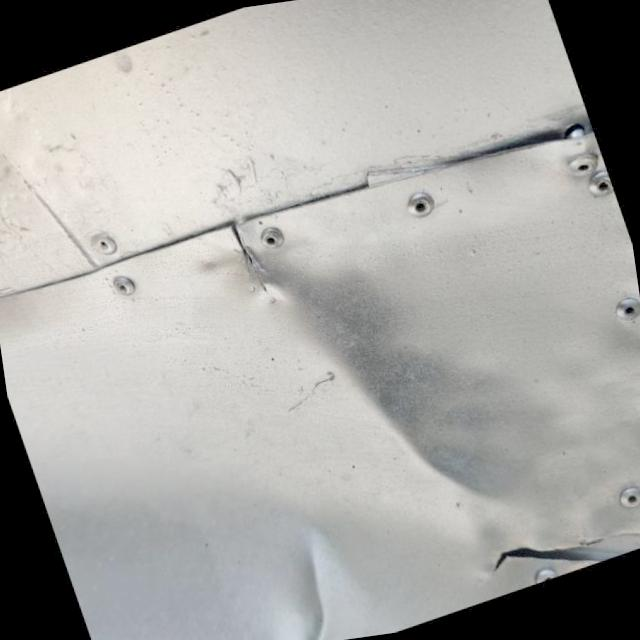dent: (247, 221, 576, 609), (261, 497, 404, 640)
